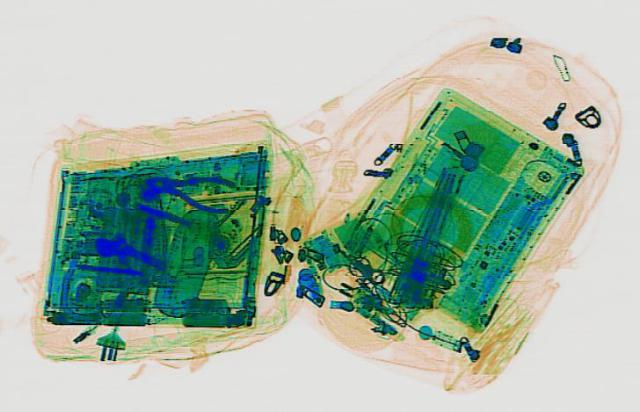Pliers: (135, 163, 245, 213)
Wrench: (80, 230, 176, 278)
